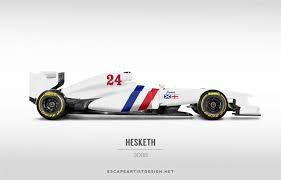FormulaOneCar: (25, 63, 266, 125)
